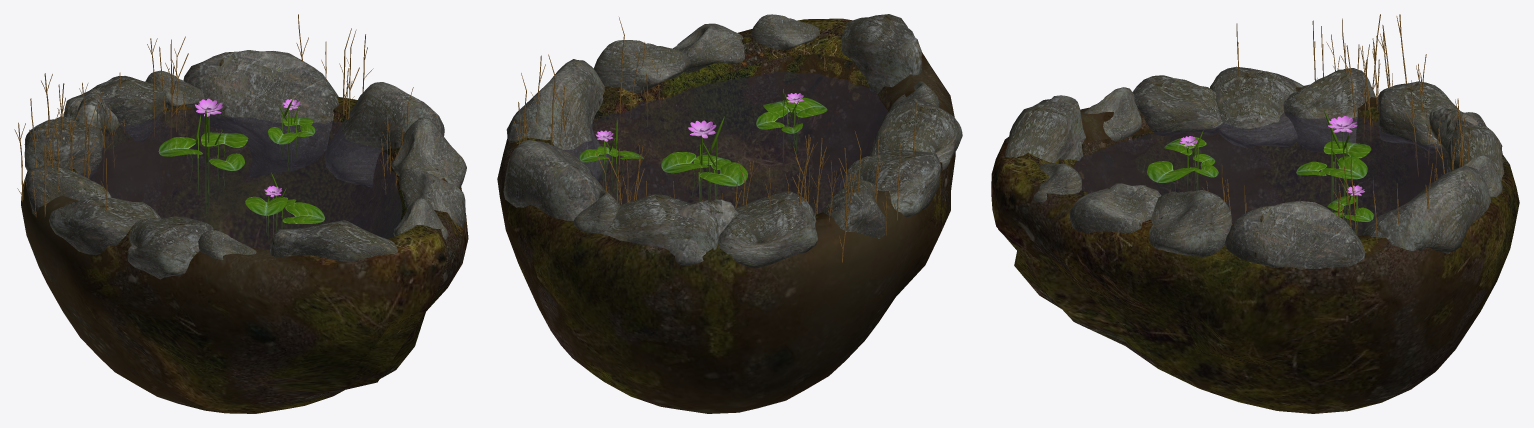
File: fish_pond_e1ac8d65.fbx
3 views of the same model, side by side, from view 1: azimuth 30°, elevation 25°; view 2: azimuth 150°, elevation 25°; view 3: azimuth 270°, elevation 25° (orthographic). The views are drawn at different scales.
Visible parts, largest first — view 1: fish_pond_e1ac8d65; view 2: fish_pond_e1ac8d65; view 3: fish_pond_e1ac8d65.
Boxes of the visible parts, bbox=[...] form: fish_pond_e1ac8d65: bbox=[14, 14, 468, 413]; fish_pond_e1ac8d65: bbox=[497, 14, 962, 413]; fish_pond_e1ac8d65: bbox=[991, 14, 1519, 413].
Bounding box in the file's own units: 7.7 × 6.13 × 9.33.
Materials: 6 (5 with a texture image).
